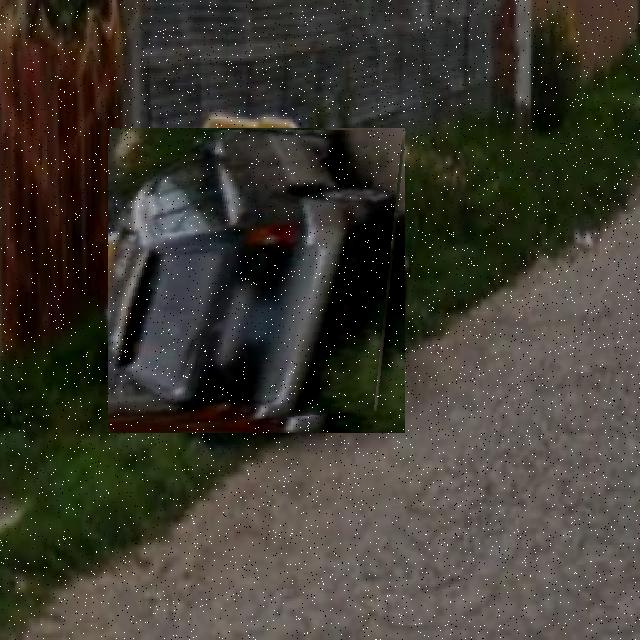car: (109, 131, 409, 432)
